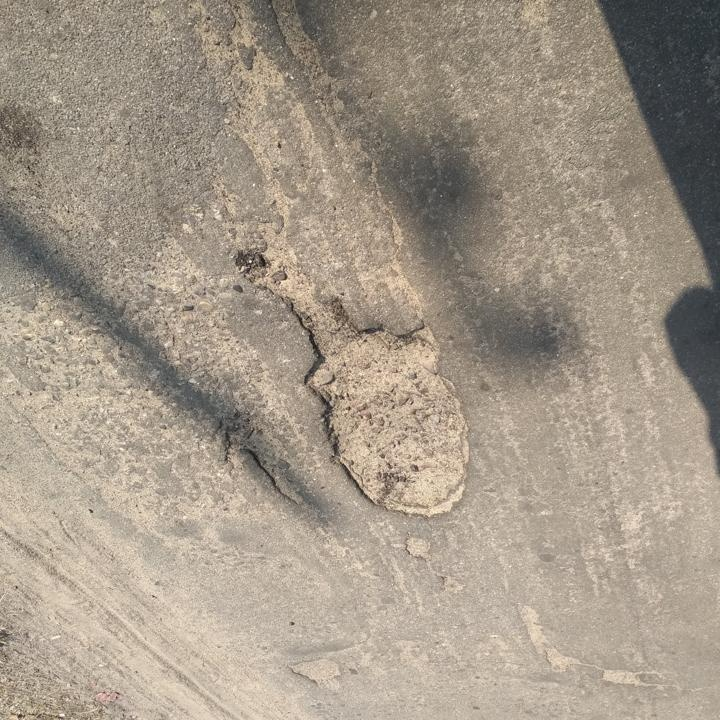pothole: (235, 253, 476, 523), (215, 413, 306, 508), (512, 600, 583, 673), (285, 654, 347, 694), (598, 667, 661, 690), (400, 535, 434, 561)
